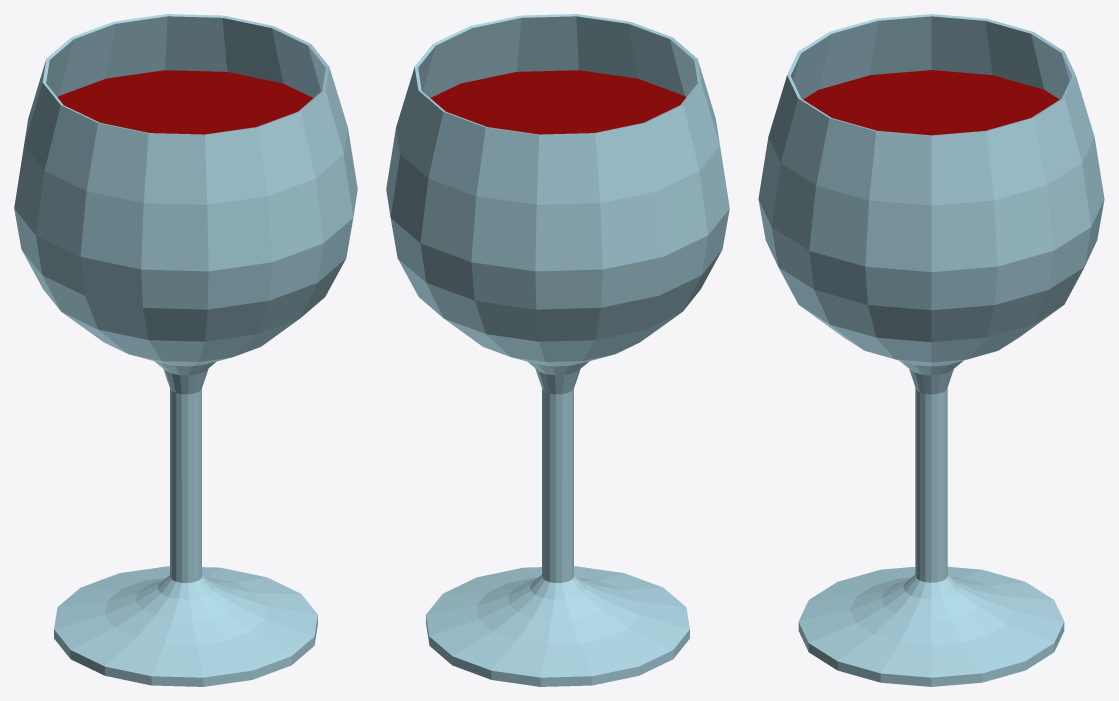
Rendered from Copa01_Vino.fbx.
3 views of the same model, side by side, from view 1: azimuth 30°, elevation 25°; view 2: azimuth 150°, elevation 25°; view 3: azimuth 270°, elevation 25° (orthographic).
Parts seen in each view (by area): view 1: Copa01_Vino; view 2: Copa01_Vino; view 3: Copa01_Vino.
Part boxes in pixels (x1,y1,x2,y2): Copa01_Vino: [14, 14, 357, 686]; Copa01_Vino: [386, 14, 729, 686]; Copa01_Vino: [758, 14, 1104, 686].
Bounding box in the file's own units: 9.5 × 16.83 × 9.5.
